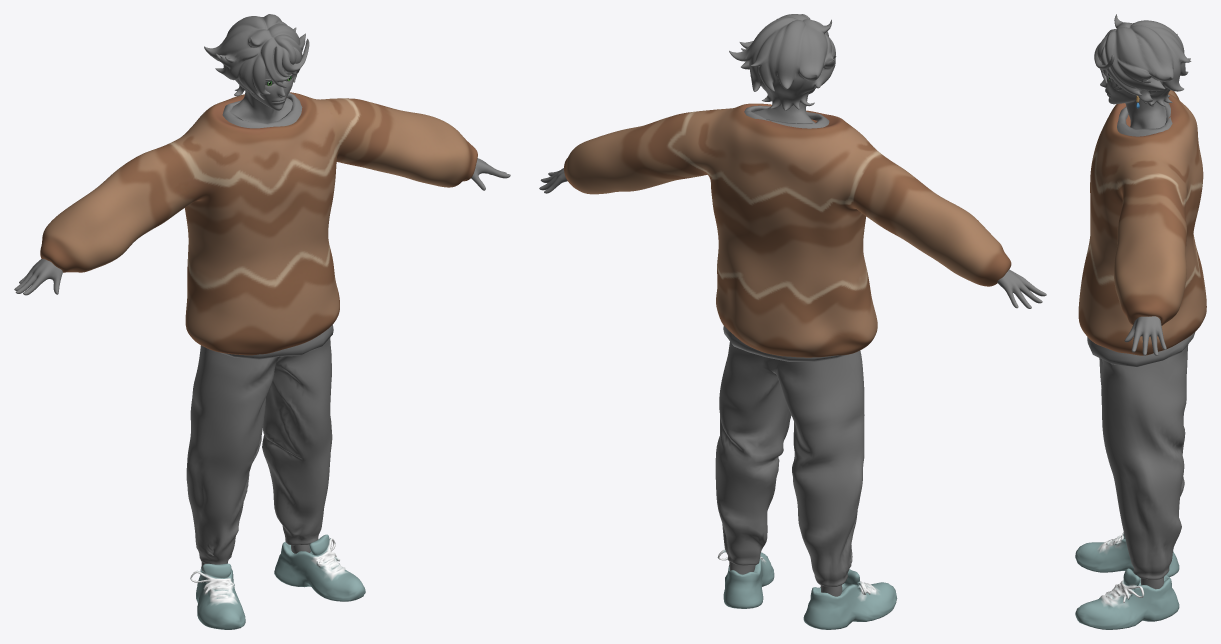
The picture shows the model from 3 angles, left to right: view 1: azimuth 30°, elevation 25°; view 2: azimuth 150°, elevation 25°; view 3: azimuth 270°, elevation 25°; orthographic projection. The views are drawn at different scales.
Visible parts, largest first — view 1: kofta1, newMisha3_presentation2, part_3, HAIR1, hair_PART1, part_18, futbolka2, ruki1; view 2: kofta1, newMisha3_presentation2, HAIR1, part_3, futbolka2, ruki1, part_18; view 3: kofta1, newMisha3_presentation2, part_3, HAIR1, futbolka2, part_18, ruki1, hair_PART1.
Part boxes in pixels (x1=…): kofta1: x1=40, y1=92, x2=477, y2=355; newMisha3_presentation2: x1=186, y1=338, x2=332, y2=564; part_3: x1=190, y1=534, x2=365, y2=629; HAIR1: x1=204, y1=14, x2=307, y2=99; hair_PART1: x1=252, y1=36, x2=309, y2=94; part_18: x1=230, y1=70, x2=293, y2=123; futbolka2: x1=220, y1=92, x2=333, y2=359; ruki1: x1=14, y1=158, x2=510, y2=295; kofta1: x1=564, y1=103, x2=1011, y2=357; newMisha3_presentation2: x1=715, y1=341, x2=864, y2=586; HAIR1: x1=729, y1=14, x2=836, y2=110; part_3: x1=717, y1=549, x2=897, y2=629; futbolka2: x1=723, y1=105, x2=847, y2=361; ruki1: x1=539, y1=168, x2=1046, y2=308; part_18: x1=752, y1=87, x2=815, y2=123; kofta1: x1=1078, y1=90, x2=1206, y2=355; newMisha3_presentation2: x1=1099, y1=344, x2=1188, y2=579; part_3: x1=1075, y1=532, x2=1179, y2=629; HAIR1: x1=1103, y1=14, x2=1191, y2=106; futbolka2: x1=1087, y1=101, x2=1195, y2=367; part_18: x1=1100, y1=76, x2=1166, y2=128; ruki1: x1=1124, y1=316, x2=1166, y2=355; hair_PART1: x1=1094, y1=29, x2=1114, y2=83.
Bounding box in the file's own units: 107 × 120 × 25.08.
